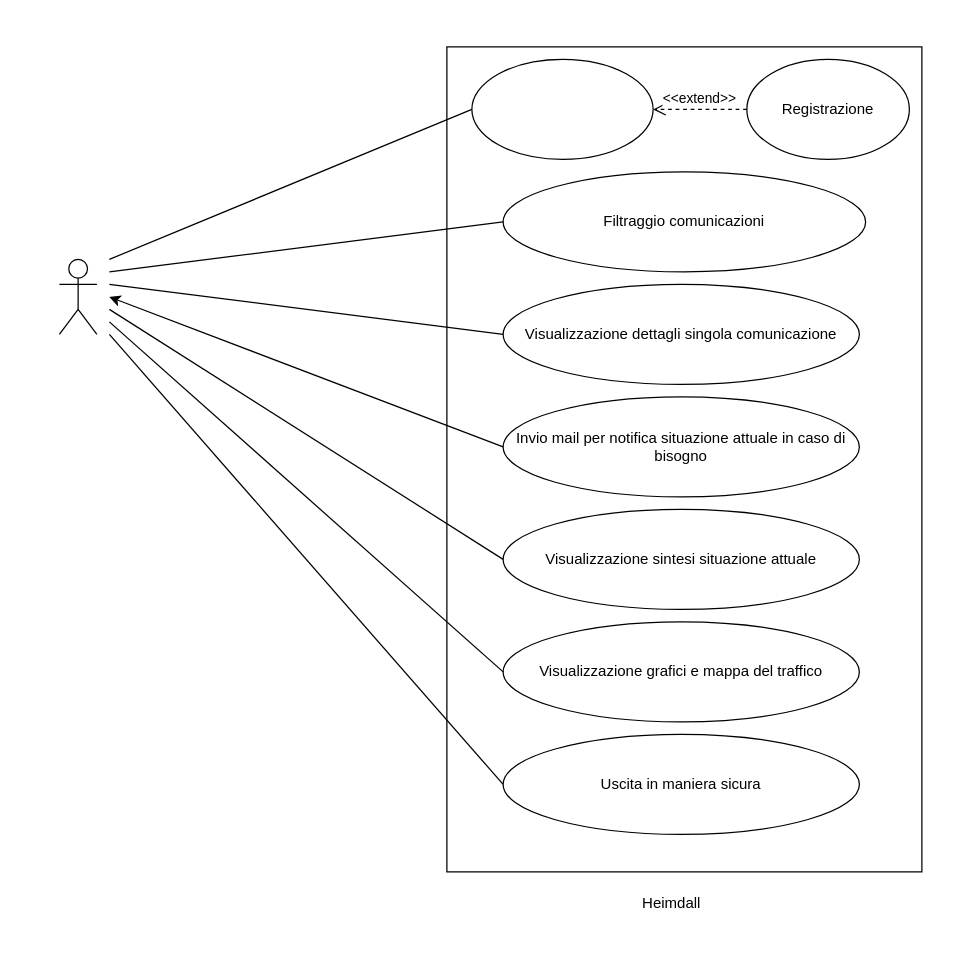
Some shapes in this 969 by 956 pixel diagram are drawn without their labels. The shapes that lost their labels are listed below. From the top down, each one's box as (x1, y1, x2, y2) in pixels, then its label:
(471, 58, 653, 159): Accesso attraverso autenticazione
(58, 258, 97, 334): Utente
